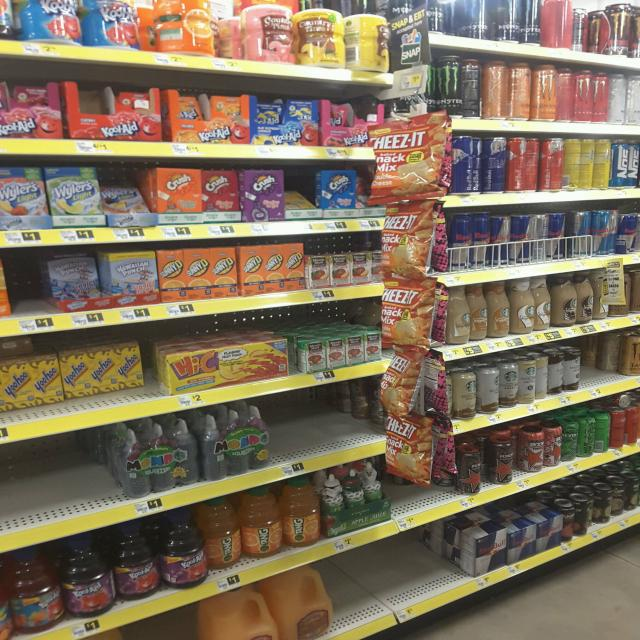empty: (338, 528, 476, 621), (1, 430, 117, 518), (271, 382, 364, 465), (579, 330, 634, 400)
